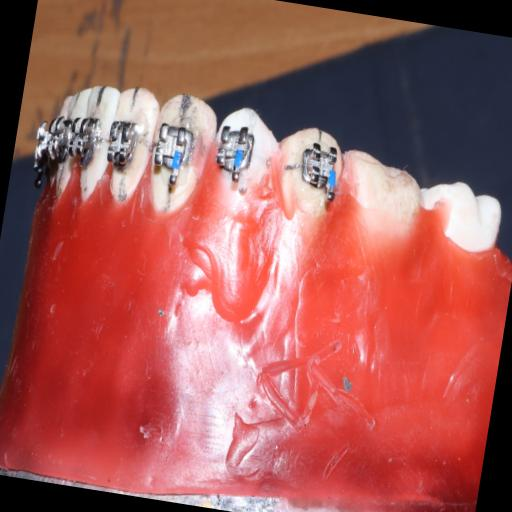correct_brace: (205, 103, 283, 195)
incorrect_brace: (211, 123, 259, 176)
